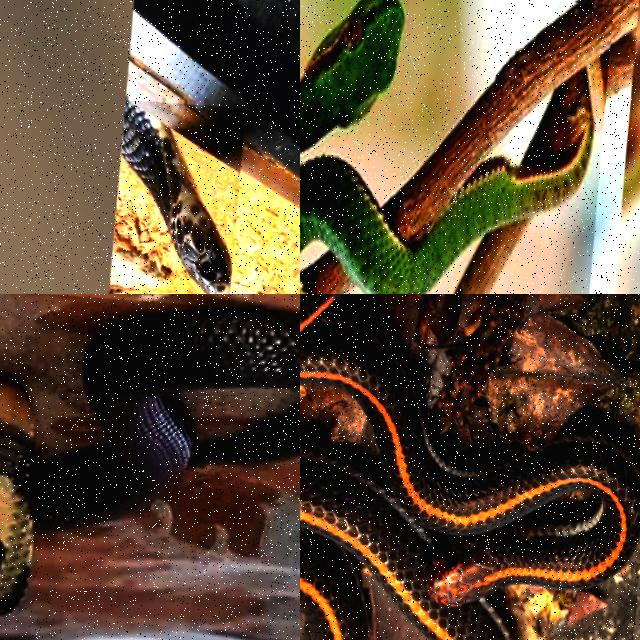Calliophis intestinalis: (300, 294, 639, 639)
Naja kaouthia: (0, 308, 299, 615)
Naja siamensis: (121, 96, 231, 293)
Trimeresurus: (300, 55, 602, 293)
